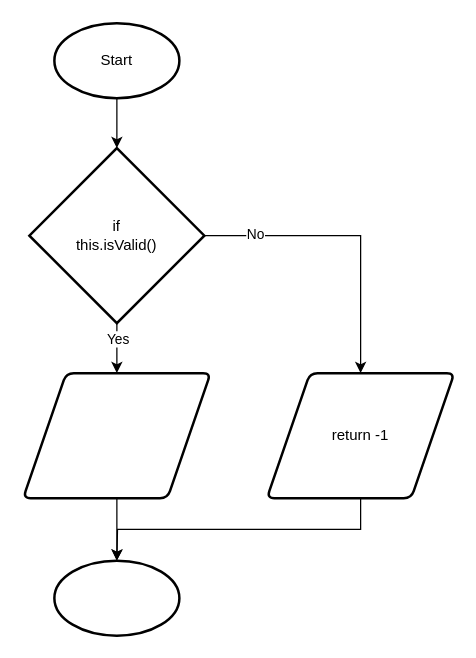
Image size: 476x658. Some labels were removed from this diagram. The shapes that lost their labels are listed below. From the top down, each one's centre as x and y in pixels, then its label:
At point (116, 435): "return this.side1 + this.side2 + this.side3".
At point (116, 597): "Stop".
